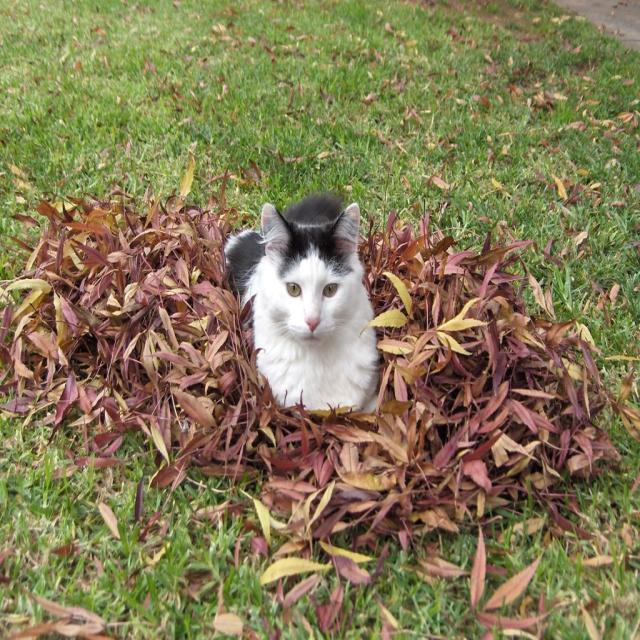Cat: (221, 182, 384, 414)
